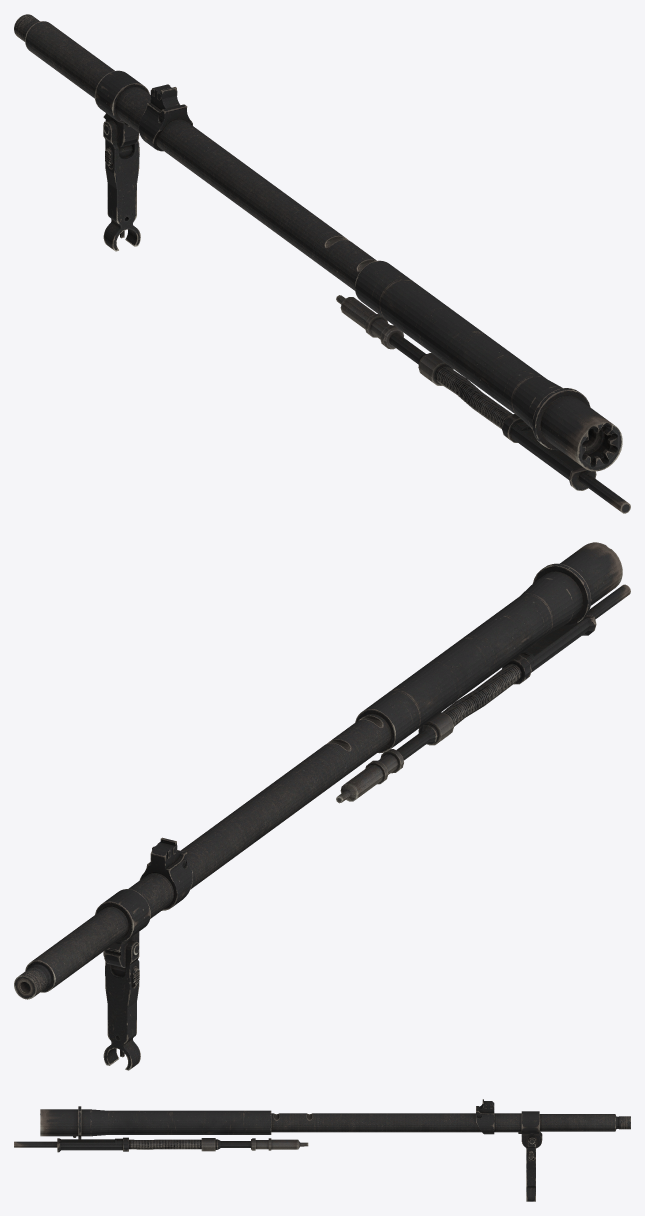
3 views of the same model, one above another, from view 1: azimuth 30°, elevation 25°; view 2: azimuth 150°, elevation 25°; view 3: azimuth 270°, elevation 25° (orthographic). The views are drawn at different scales.
Visible parts, largest first — view 1: TW_5bb20dadd4351e00367faeff_PZ_Import; view 2: TW_5bb20dadd4351e00367faeff_PZ_Import; view 3: TW_5bb20dadd4351e00367faeff_PZ_Import.
Part boxes in pixels (<box>): TW_5bb20dadd4351e00367faeff_PZ_Import: <box>14,14,630,513</box>; TW_5bb20dadd4351e00367faeff_PZ_Import: <box>14,542,630,1070</box>; TW_5bb20dadd4351e00367faeff_PZ_Import: <box>14,1099,630,1201</box>.
Size of the model in its own units: 0.017 by 0.315 by 0.0551.
Materials: 1 (1 with a texture image).
